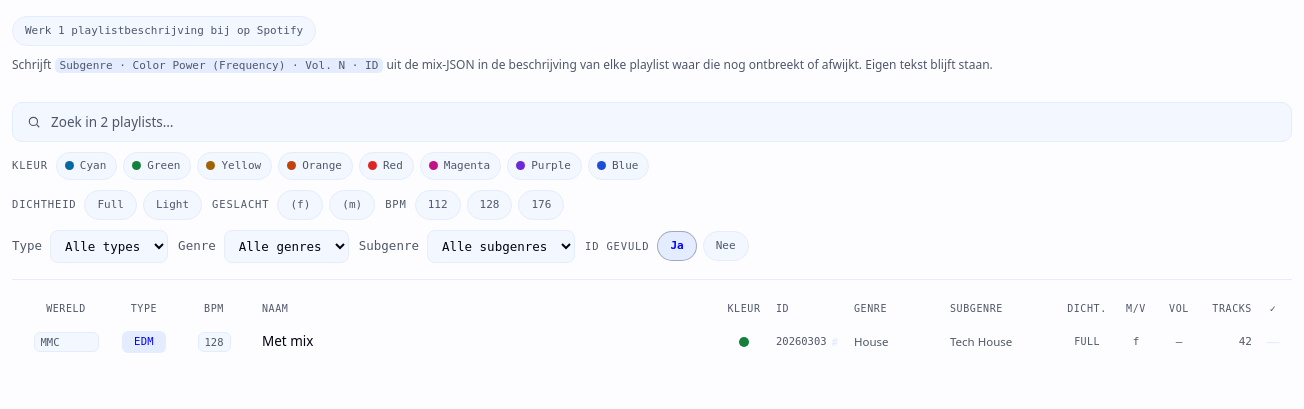
Test: PlaylistManager -- ID-filter (gevuld ja/nee) › toont de wis-knop pas bij een afwijking van de openingsstand, niet meteen
Expected: the button "Wis filters" is not shown
Click the button "Nee" at (726, 246), box [703, 231, 749, 261]
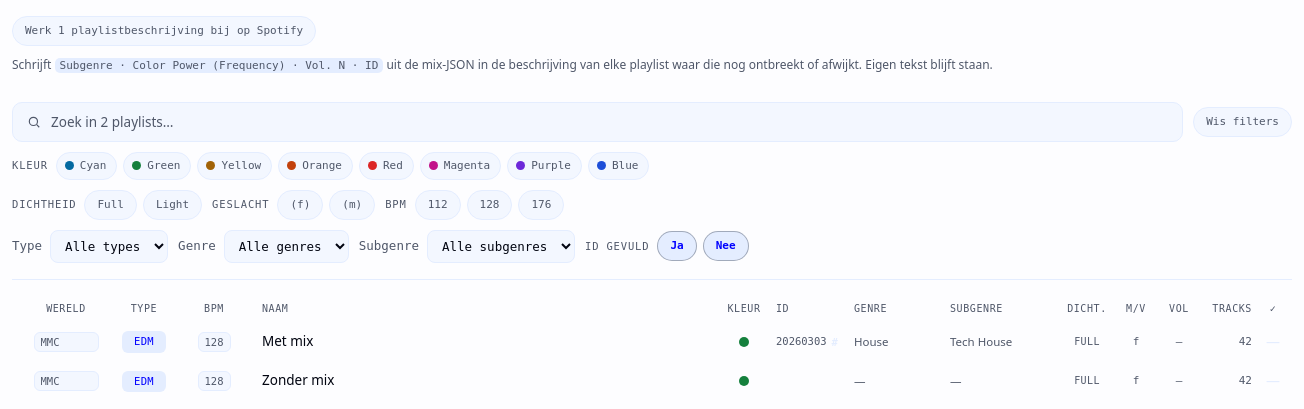
Result: the button "Wis filters" is shown
# Wissen zet terug naar de openingsstand ("Ja"), niet naar "alles".
Click the button "Wis filters" at (1243, 122), box [1193, 107, 1292, 137]
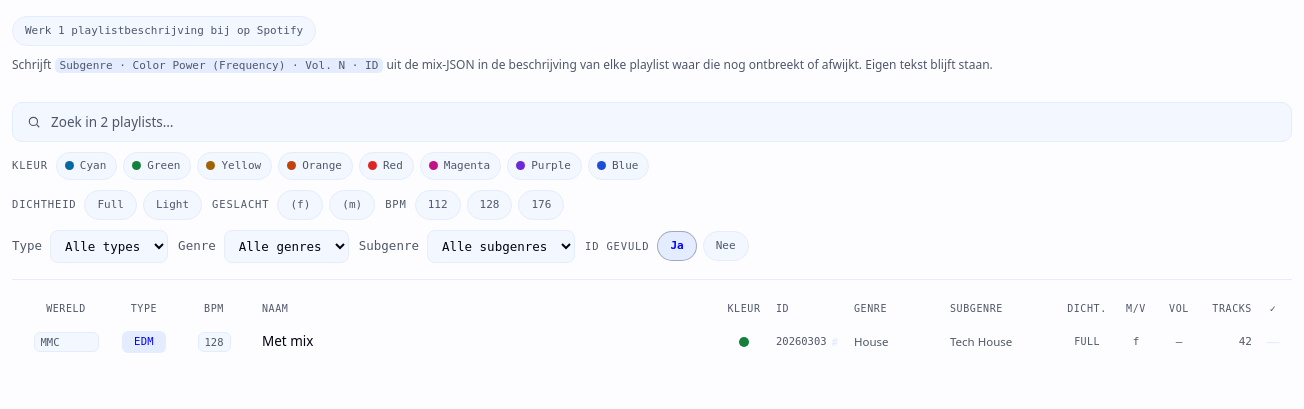
Result: the button "Wis filters" is gone
